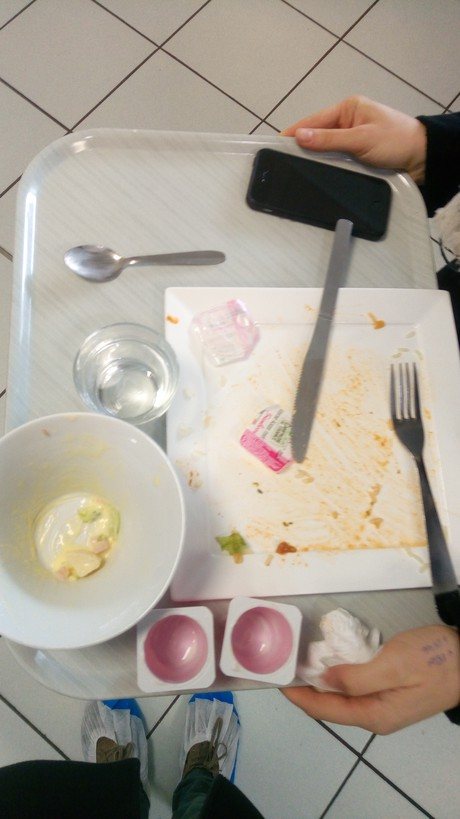cup: (64, 323, 194, 426)
cutlery: (377, 356, 460, 630), (286, 211, 362, 475), (61, 226, 237, 292)
trash: (137, 606, 222, 691), (237, 598, 306, 691), (315, 612, 374, 689), (194, 306, 260, 369), (245, 399, 299, 473)
